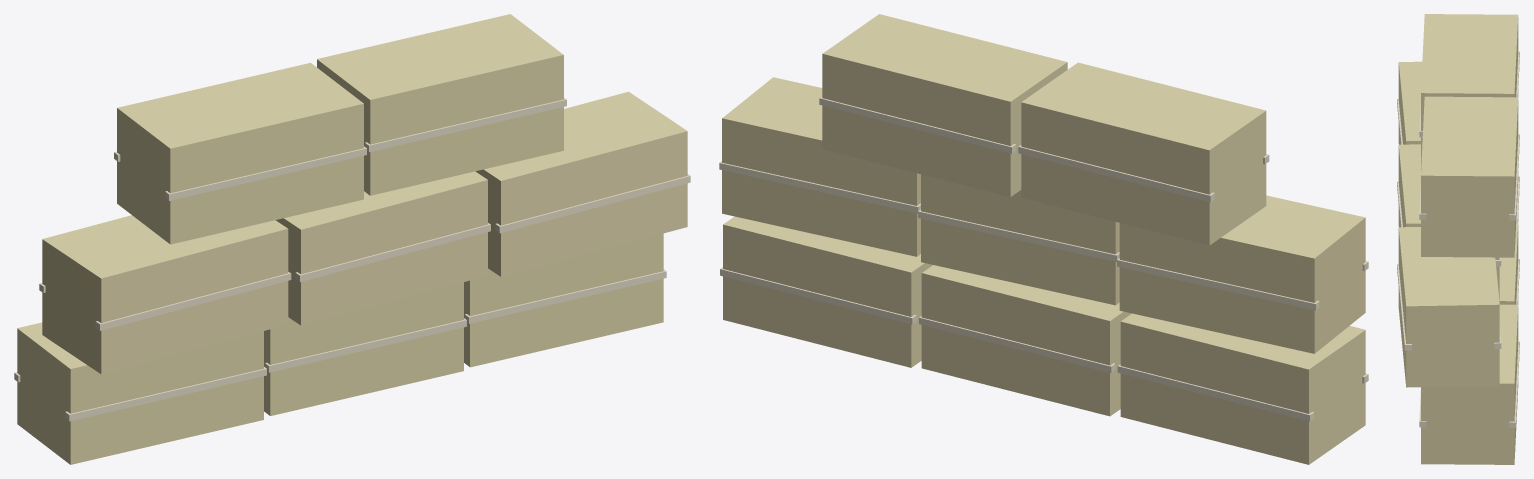
File: hot-air-balloon-festival-straw-bale-stack-470f444c__38494.glb
The picture shows the model from 3 angles, left to right: view 1: azimuth 30°, elevation 25°; view 2: azimuth 150°, elevation 25°; view 3: azimuth 270°, elevation 25°; orthographic projection. The views are drawn at different scales.
Visible parts, largest first — view 1: straw-bale-stack-straw, straw-bale-stack-rope; view 2: straw-bale-stack-straw, straw-bale-stack-rope; view 3: straw-bale-stack-straw, straw-bale-stack-rope.
Part boxes in pixels (box(x1,y1,x2,y2)): straw-bale-stack-straw: box(17, 14, 687, 464); straw-bale-stack-rope: box(14, 98, 690, 421); straw-bale-stack-straw: box(722, 14, 1365, 464); straw-bale-stack-rope: box(719, 96, 1368, 421); straw-bale-stack-straw: box(1398, 14, 1518, 464); straw-bale-stack-rope: box(1397, 51, 1519, 427).
Size of the model in its own units: 2.93 by 1.34 by 0.6027.
